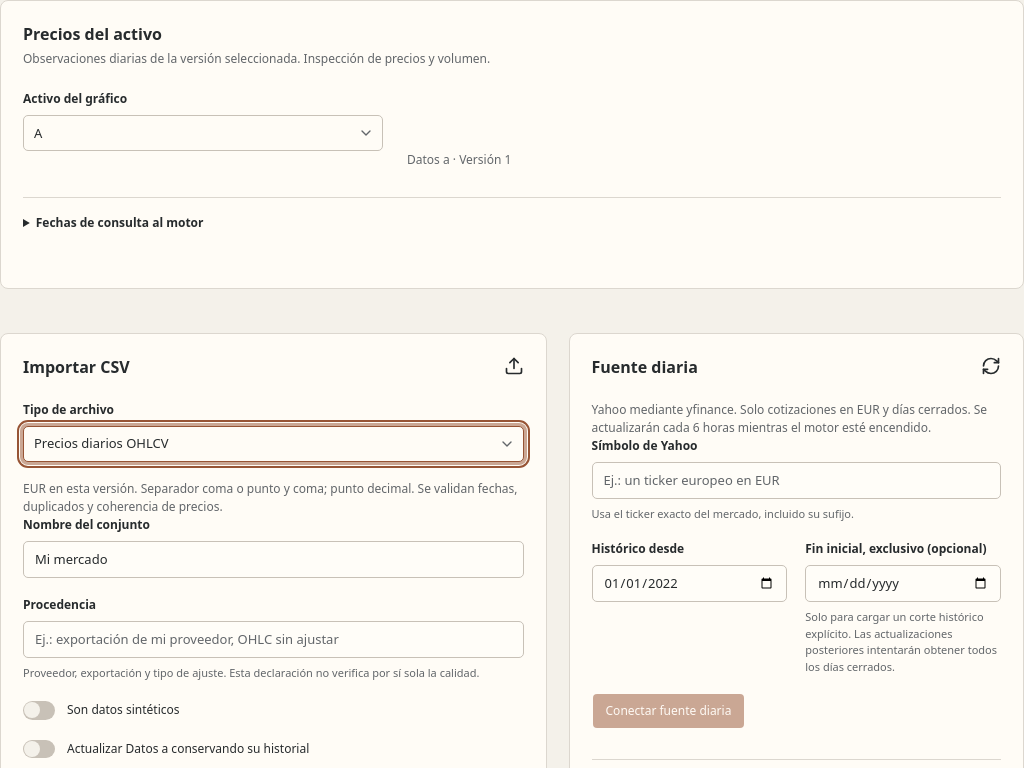
Scenario: Confirmación de movimientos › exige otra revisión al cambiar dataset
Press Arrowdown
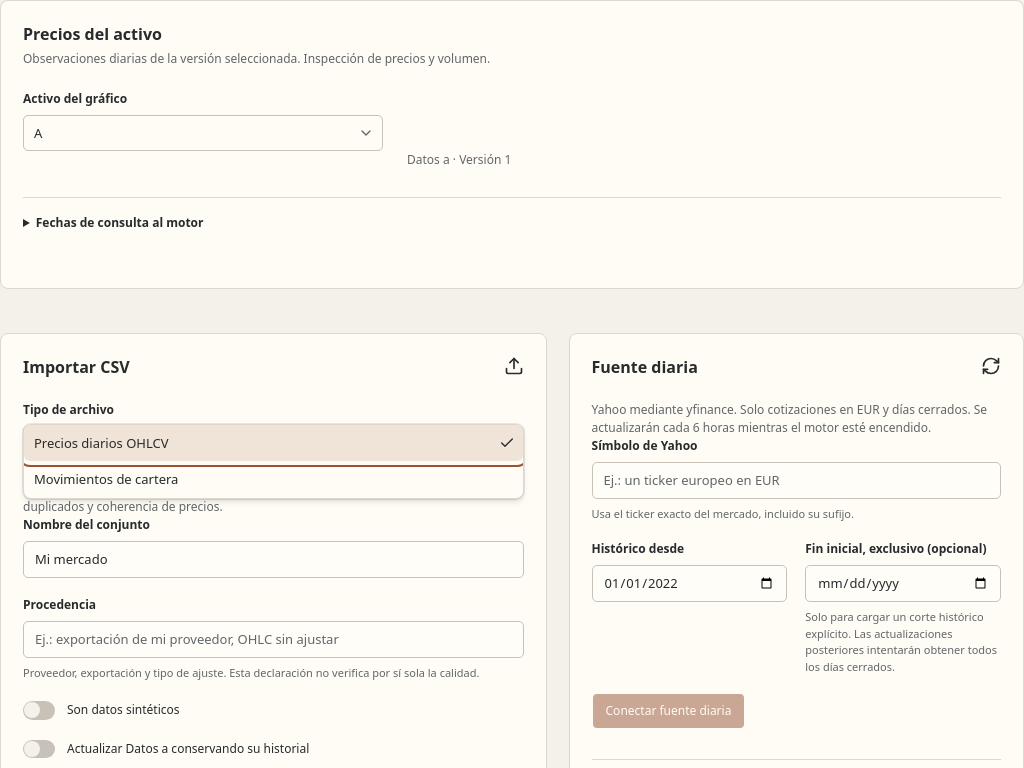
Click the option "Movimientos de cartera" at (106, 479), box [34,470,178,488]
(page scrolled)
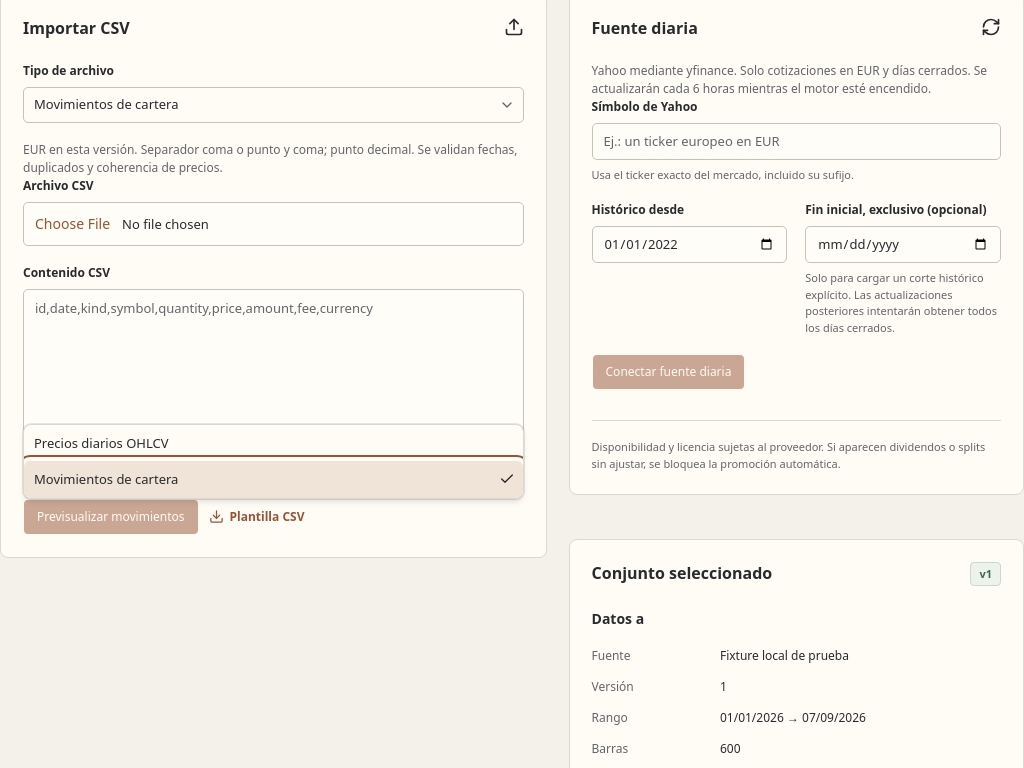
Type "csv-reviewed" into the text box labelled "Contenido CSV" at (273, 385), box [23,289,524,481]
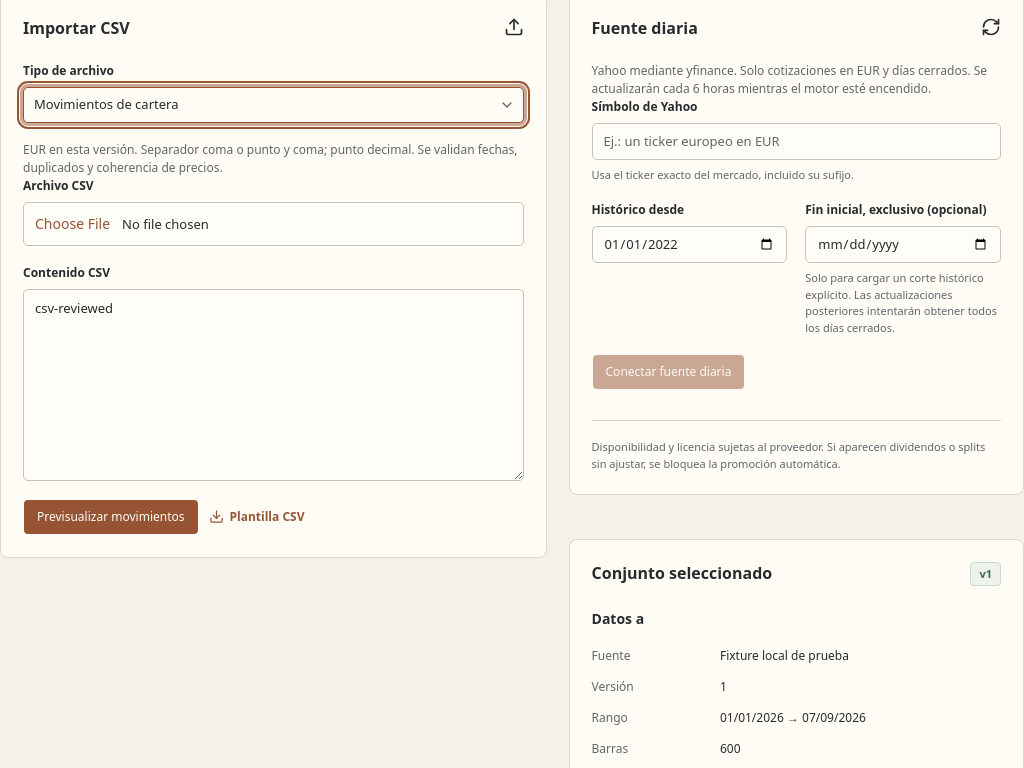
Click the button "Previsualizar movimientos" at (111, 517), box [23,499,198,535]
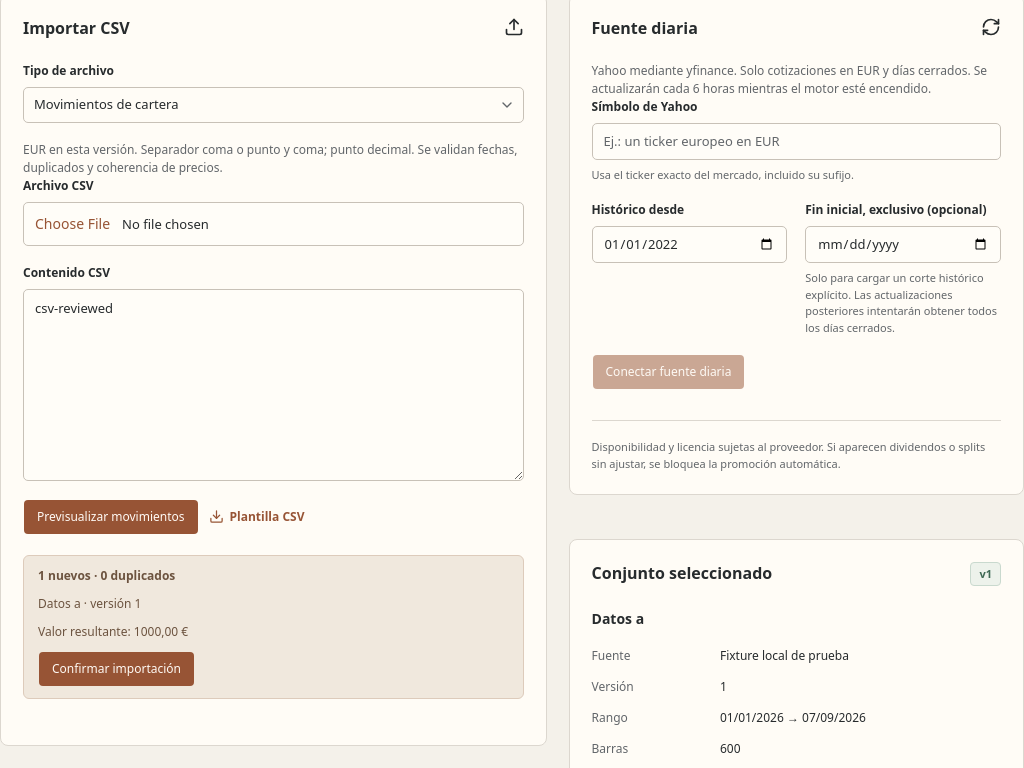
expect the button "Confirmar importación" is shown: met, box [38,651,195,687]
